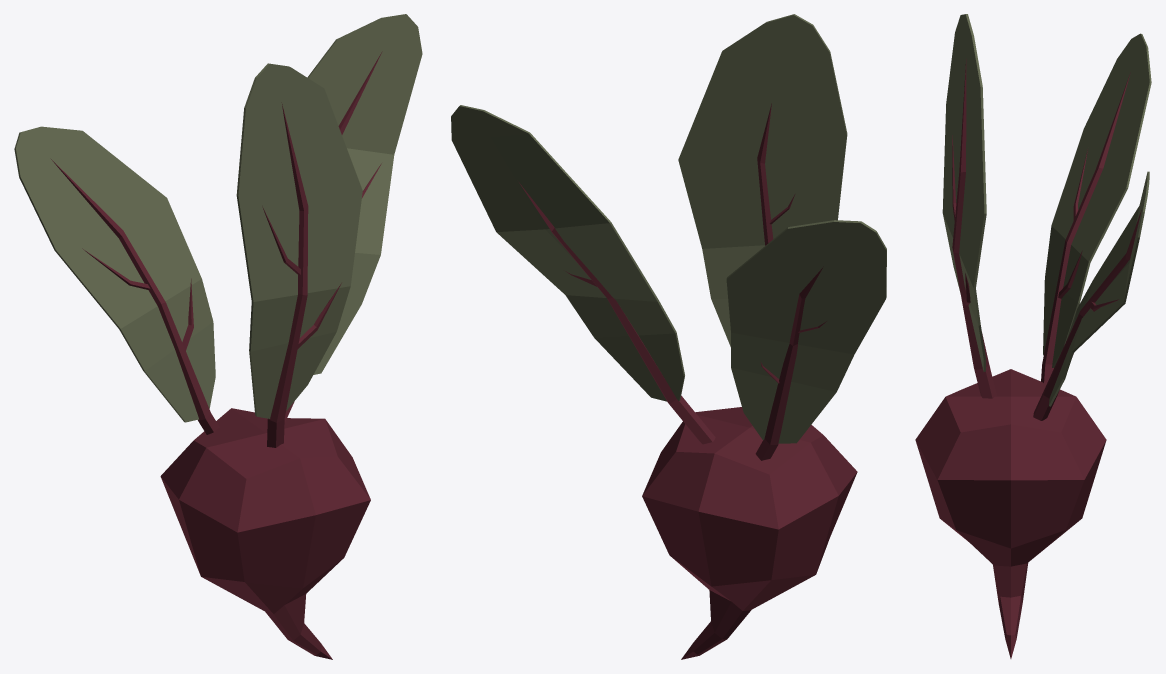
File: beet_4.gltf
The picture shows the model from 3 angles, left to right: view 1: azimuth 30°, elevation 25°; view 2: azimuth 150°, elevation 25°; view 3: azimuth 270°, elevation 25°; orthographic projection. The views are drawn at different scales.
Visible parts, largest first — view 1: beet_4; view 2: beet_4; view 3: beet_4.
Boxes of the visible parts, x1,y1,x2,y2 form: beet_4: (14,14,422,659); beet_4: (451,14,886,659); beet_4: (915,14,1151,658).
Bounding box in the file's own units: 0.7512 × 1.1 × 0.3899.
1 material, 1 textured.
